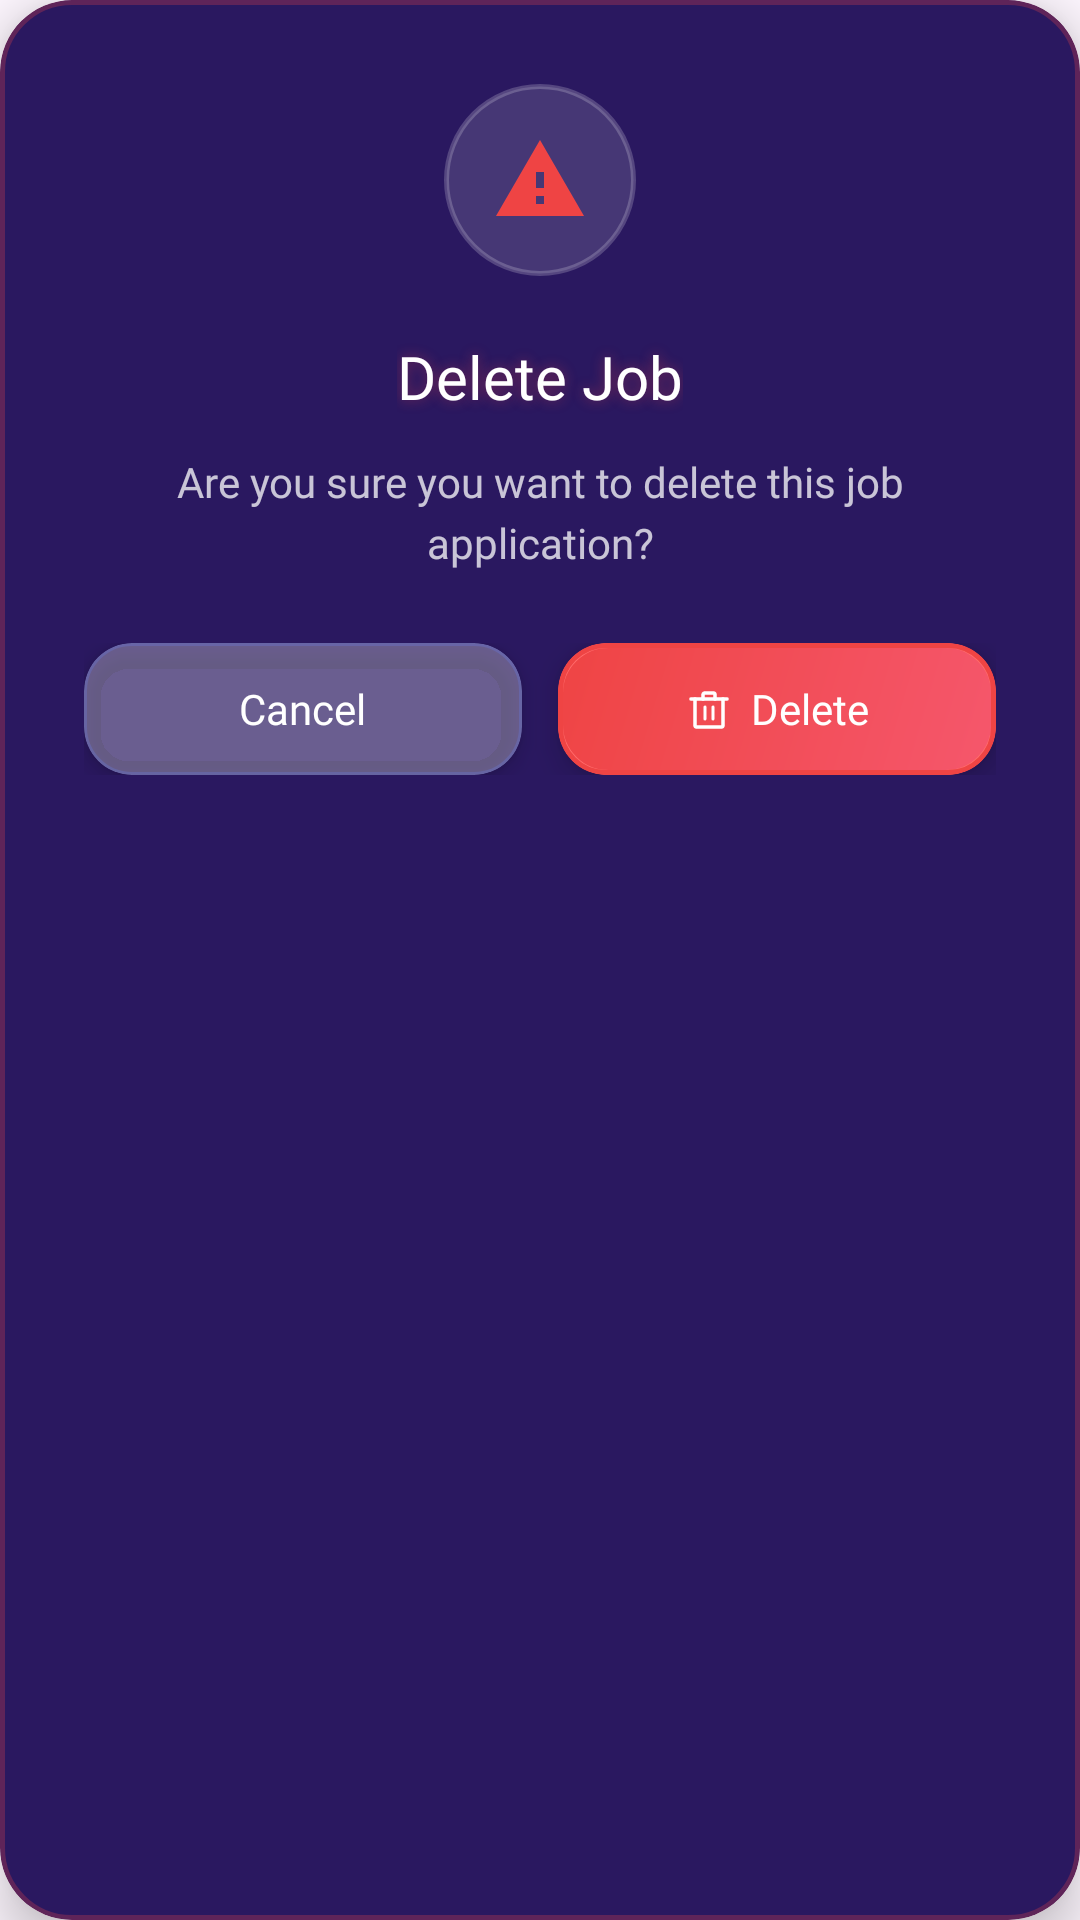

Named icons in this screenshot (1080 x 1920) and their centers, (x,y):
warning: (540,178)
